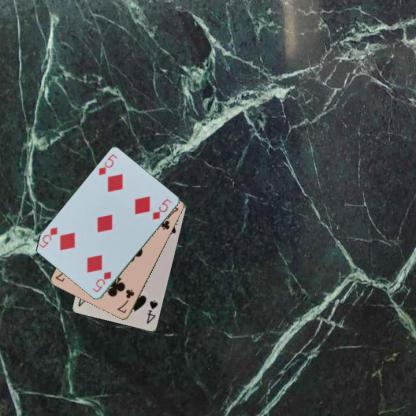4s: (144, 298, 159, 325)
5d: (96, 151, 118, 177), (90, 269, 112, 294)
7c: (114, 286, 136, 315)
